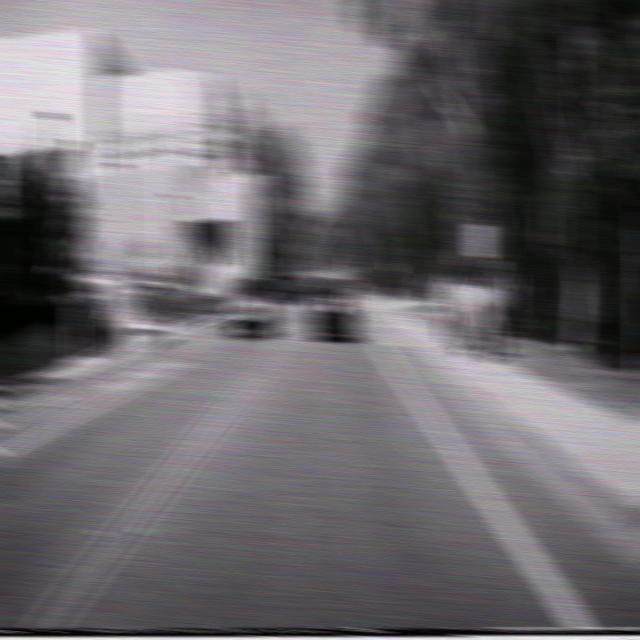speedLimit35: (467, 223, 491, 258)
